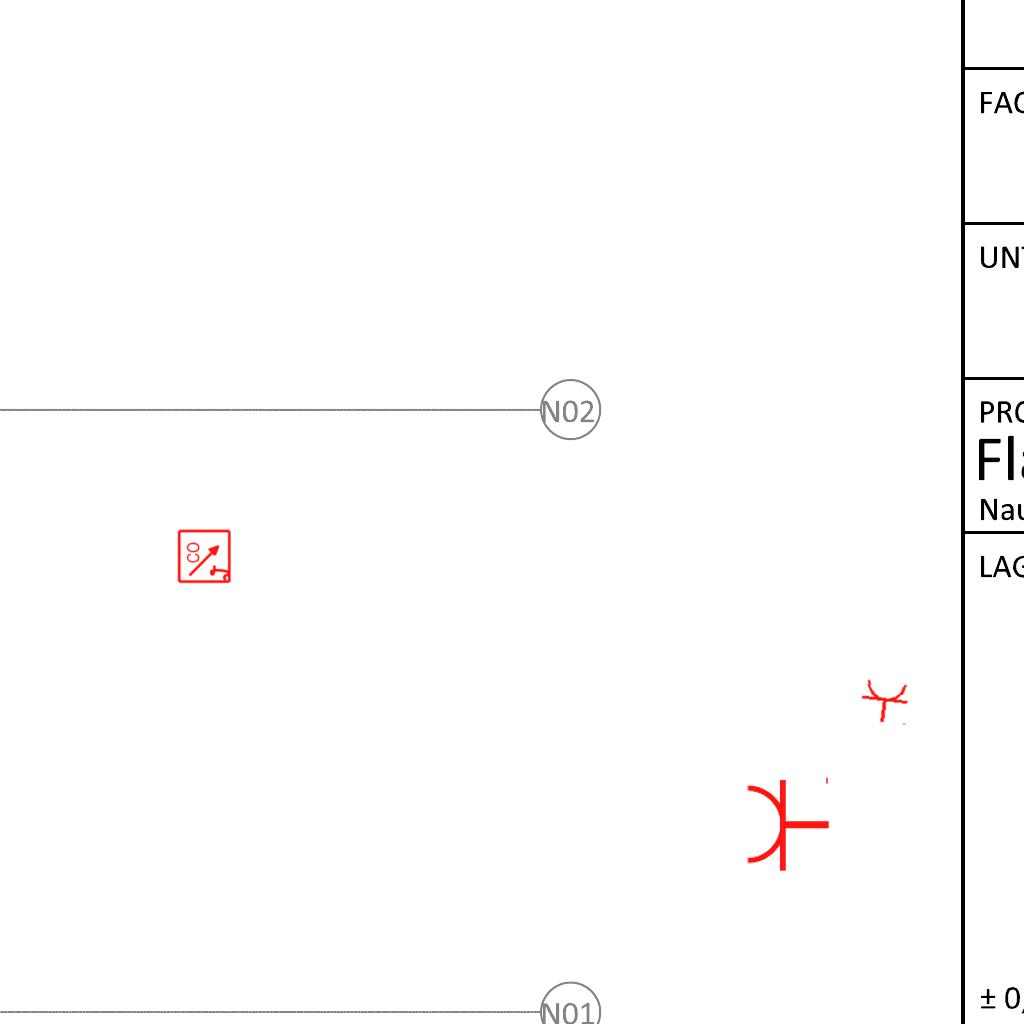ROA_Rauchmelder_optisch_mit_Signalgeber_(Sockelsirene): (177, 528, 233, 584)
Schukosteckdose_einfach: (744, 773, 831, 873), (858, 677, 913, 727)
